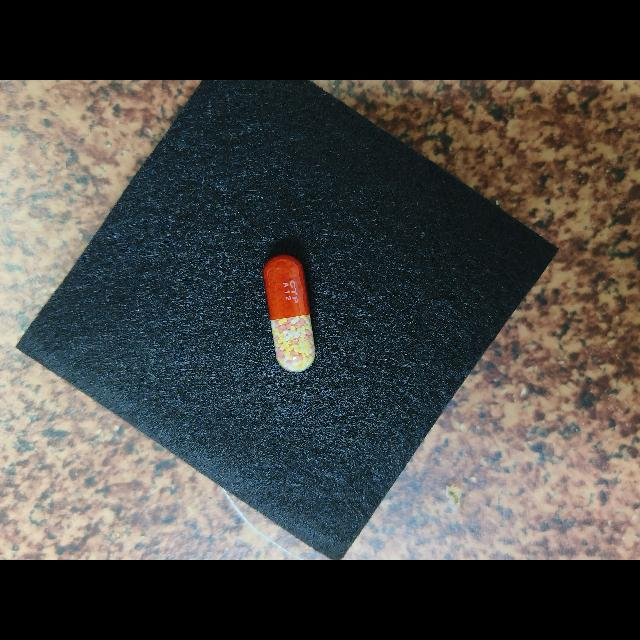Intact Capsule: (263, 255, 315, 372)
